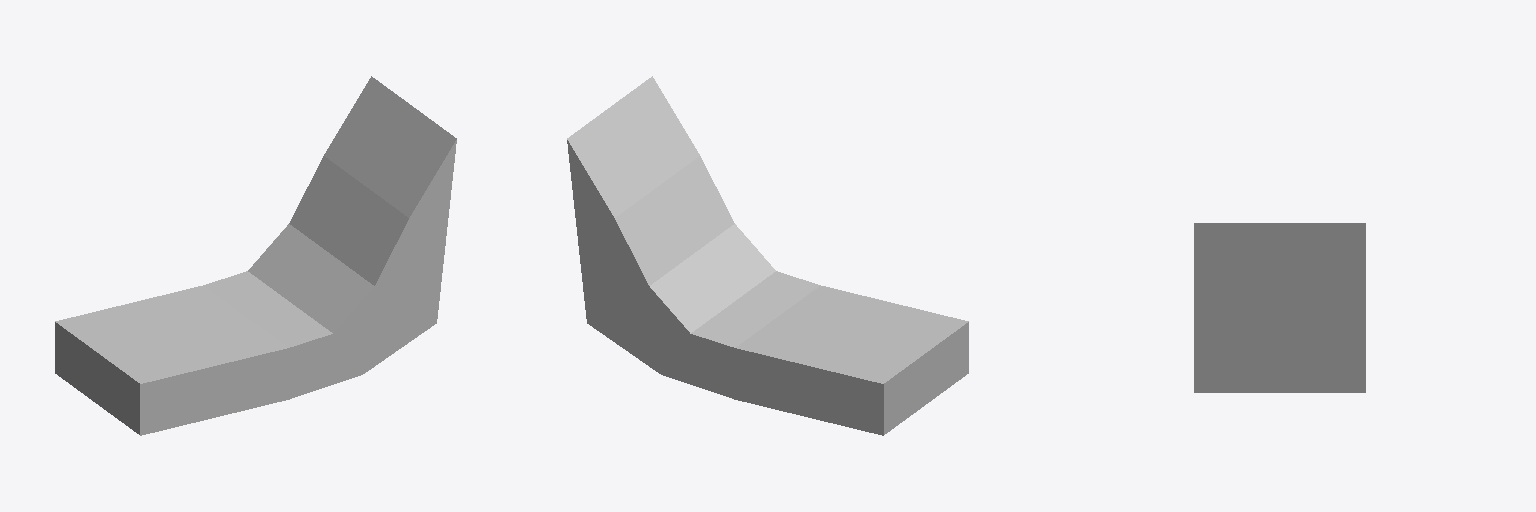
The model's file is ramp.obj.
The picture shows the model from 3 angles: view 1: azimuth 30°, elevation 25°; view 2: azimuth 150°, elevation 25°; view 3: azimuth 270°, elevation 25°; orthographic projection.
Visible parts, largest first — view 1: Cube_Cube.001; view 2: Cube_Cube.001; view 3: Cube_Cube.001.
Part boxes in pixels (x1,y1,x2,y2): Cube_Cube.001: (55,76,456,435); Cube_Cube.001: (567,76,968,435); Cube_Cube.001: (1194,223,1365,392).
Size of the model in its own units: 11.53 by 7.66 by 5.4.